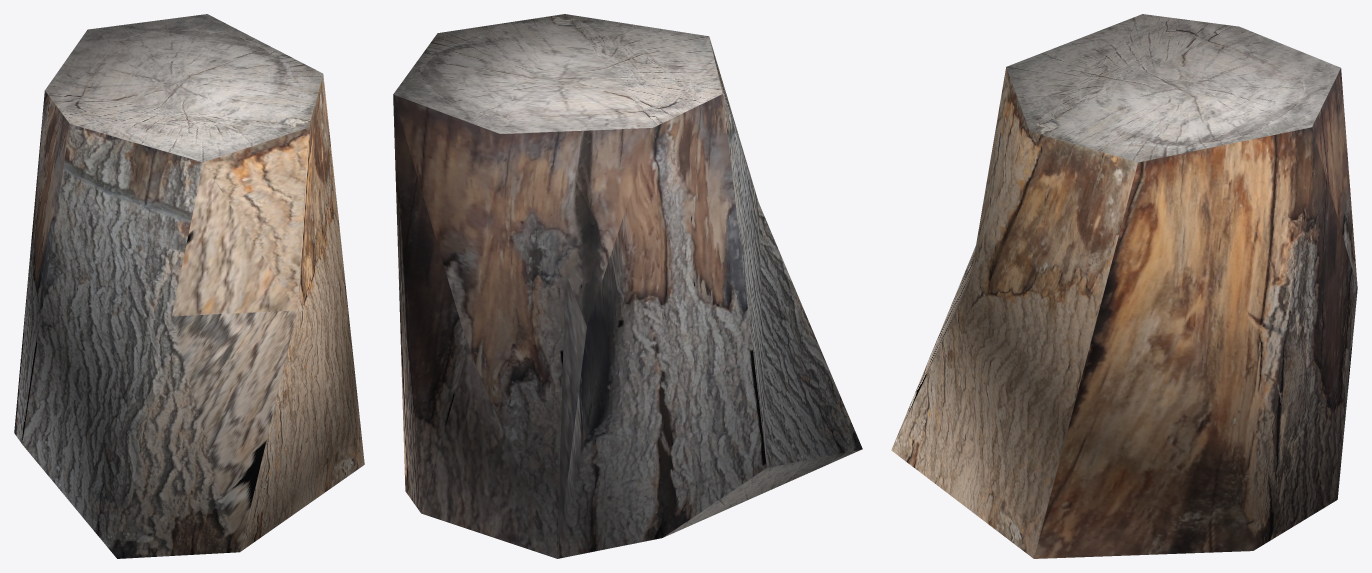
File: solinskoks.fbx
3 renders of one model, left to right at view 1: azimuth 30°, elevation 25°; view 2: azimuth 150°, elevation 25°; view 3: azimuth 270°, elevation 25°, orthographic. The views are drawn at different scales.
Visible parts, largest first — view 1: 3DModel_Retopo; view 2: 3DModel_Retopo; view 3: 3DModel_Retopo.
Boxes of the visible parts, box(x1,y1,x2,y2) form: 3DModel_Retopo: box(14, 14, 364, 558); 3DModel_Retopo: box(393, 14, 862, 558); 3DModel_Retopo: box(891, 14, 1357, 558).
Bounding box in the file's own units: 1.25 × 1.5 × 1.53.
Materials: 1 (1 with a texture image).
